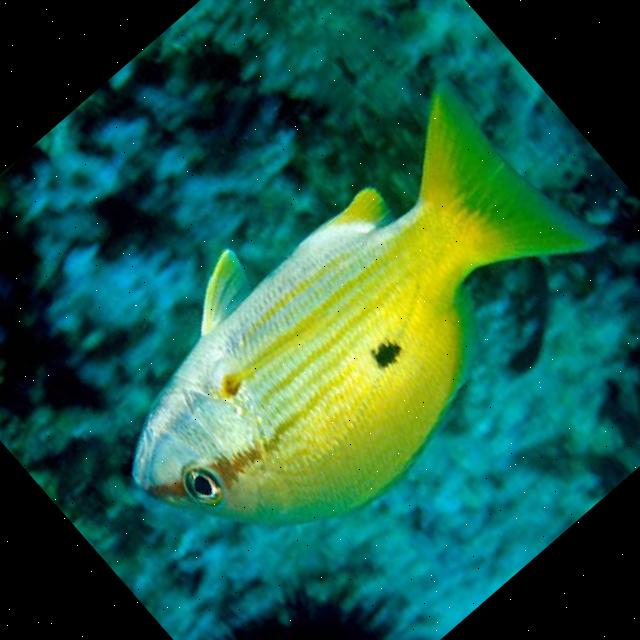ikan: (56, 53, 640, 616)
